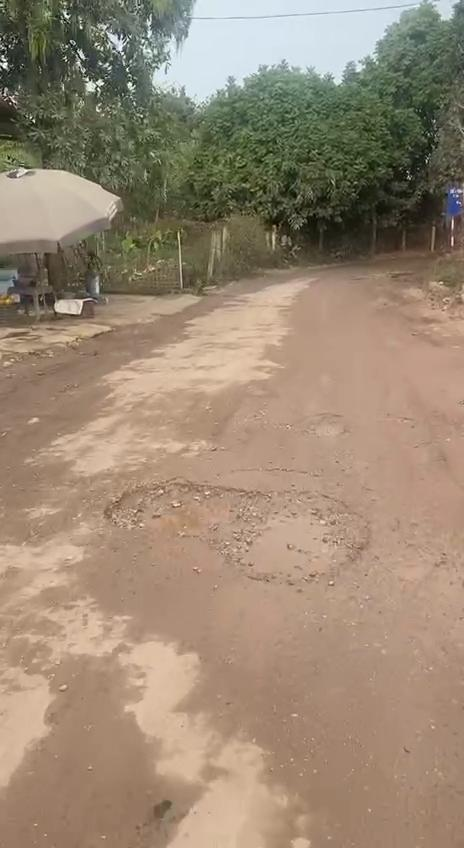pothole: (99, 476, 388, 592), (303, 416, 356, 442)
